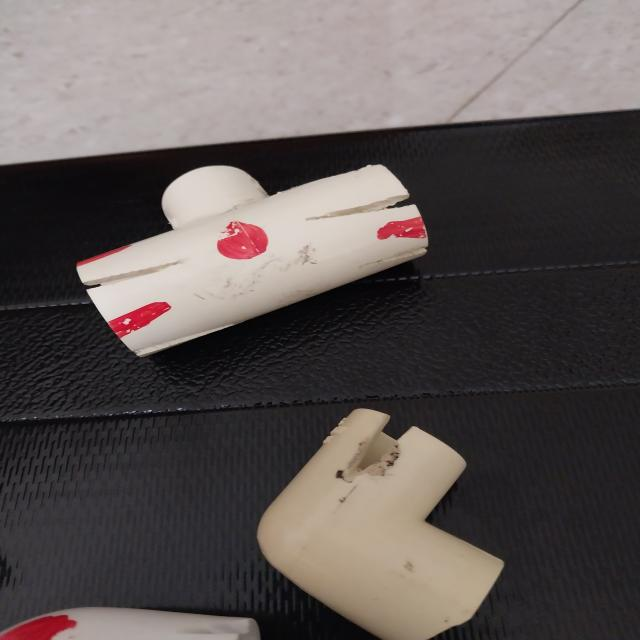Defective: (351, 416, 408, 488), (304, 198, 423, 232), (84, 265, 181, 289), (215, 222, 269, 262), (111, 304, 168, 332), (8, 620, 74, 638)
L Joint: (255, 410, 506, 640)
T Joint: (77, 166, 433, 348)
